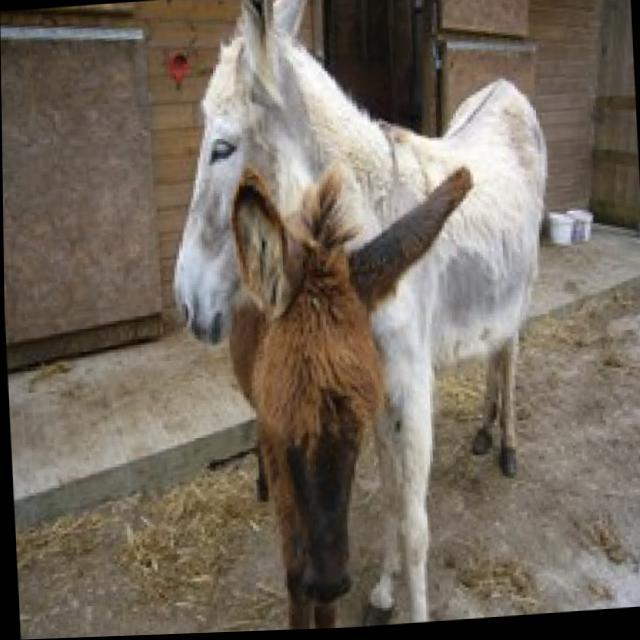Donkey: (154, 0, 566, 636), (215, 152, 492, 634)
